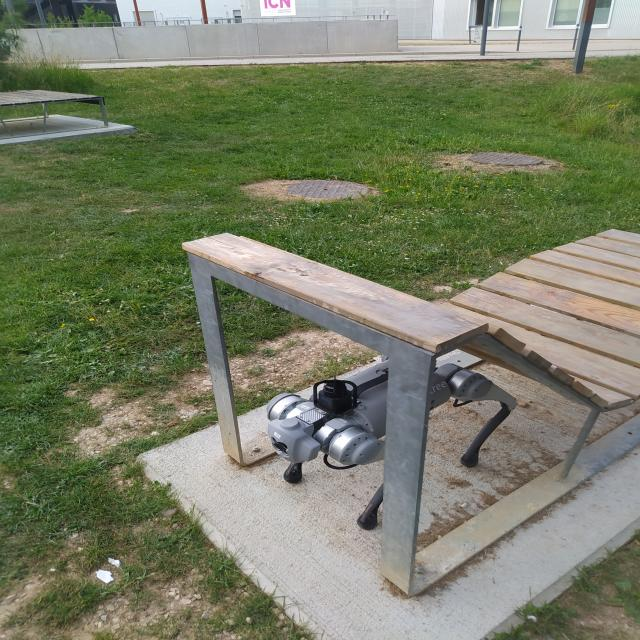unitree-go1-robot: (253, 347, 515, 537)
